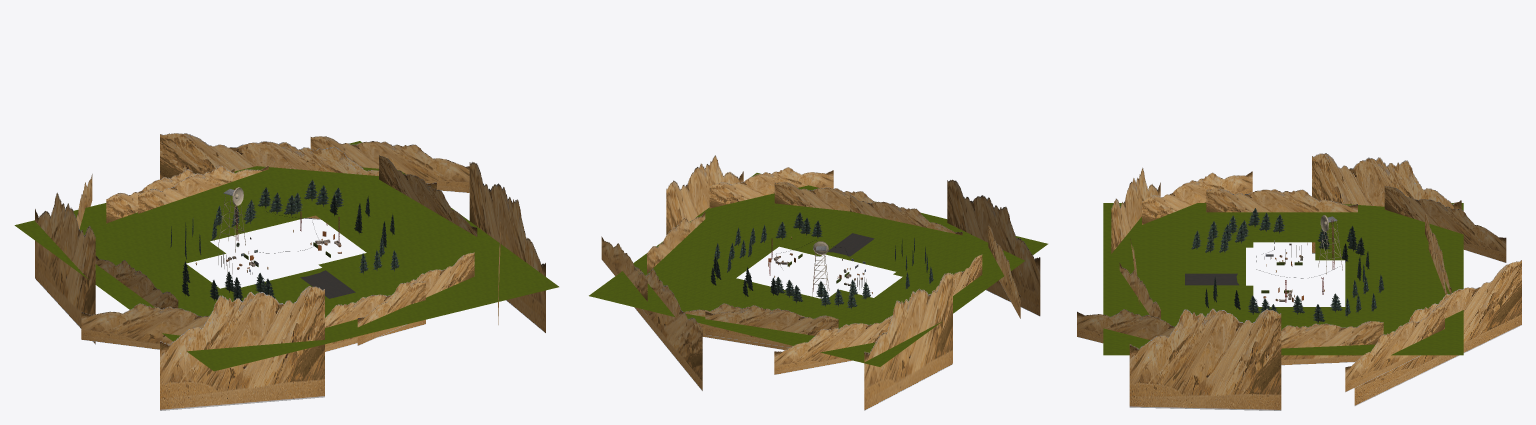
Rendered from passthrough.obj.
3 views of the same model, side by side, from view 1: azimuth 30°, elevation 25°; view 2: azimuth 150°, elevation 25°; view 3: azimuth 270°, elevation 25° (orthographic). The views are drawn at different scales.
Parts seen in each view (by area): view 1: Plane.046, mountains.003, mountains.013, mountains.006, mountains.012, mountains.001, mountains.008, mountains.010, mountains.007, mountains.009, mountains.002, mountains (+2 smaller); view 2: Plane.046, mountains.006, mountains.003, mountains.013, mountains.005, mountains.004, mountains.012, mountains.011, mountains.010, mountains.002, mountains.008, mountains.007 (+4 smaller); view 3: Plane.046, mountains.012, mountains.013, mountains.006, mountains.005, mountains.008, mountains.007, mountains, mountains.001, mountains.011, mountains.003, mountains.010 (+2 smaller).
Boxes of the visible parts, <box> form: Plane.046: <box>14,141,558,371</box>; mountains.003: <box>160,286,324,410</box>; mountains.013: <box>160,133,436,219</box>; mountains.006: <box>35,192,95,344</box>; mountains.012: <box>469,162,545,332</box>; mountains.001: <box>81,303,208,349</box>; mountains.008: <box>310,136,469,192</box>; mountains.010: <box>357,252,474,345</box>; mountains.007: <box>379,155,477,236</box>; mountains.009: <box>138,165,268,213</box>; mountains.002: <box>325,281,425,351</box>; mountains: <box>95,256,178,309</box>; Plane.046: <box>589,173,1047,366</box>; mountains.006: <box>864,272,952,410</box>; mountains.003: <box>947,179,1040,316</box>; mountains.013: <box>634,266,702,390</box>; mountains.005: <box>774,316,892,374</box>; mountains.004: <box>705,305,838,347</box>; mountains.012: <box>666,155,743,234</box>; mountains.011: <box>709,167,833,208</box>; mountains.010: <box>774,182,874,211</box>; mountains.002: <box>850,194,962,235</box>; mountains.008: <box>601,236,647,315</box>; mountains.007: <box>647,212,705,273</box>; Plane.046: <box>1103,203,1463,355</box>; mountains.012: <box>1129,308,1281,410</box>; mountains.013: <box>1354,260,1521,405</box>; mountains.006: <box>1312,153,1461,253</box>; mountains.005: <box>1384,186,1506,262</box>; mountains.008: <box>1345,305,1444,392</box>; mountains.007: <box>1281,321,1383,365</box>; mountains: <box>1206,188,1357,212</box>; mountains.001: <box>1142,171,1252,224</box>; mountains.011: <box>1077,309,1174,343</box>; mountains.003: <box>1111,167,1160,253</box>; mountains.010: <box>1119,262,1160,319</box>.
Size of the model in its own units: 187 by 103 by 179.
22 materials, 22 textured.
